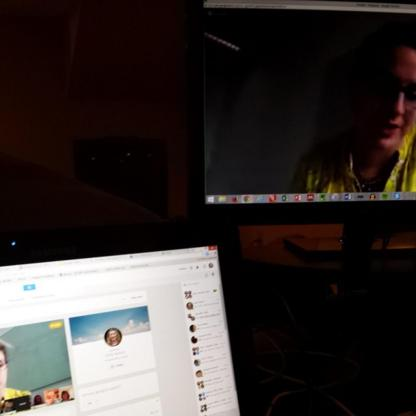board: (0, 235, 252, 415)
